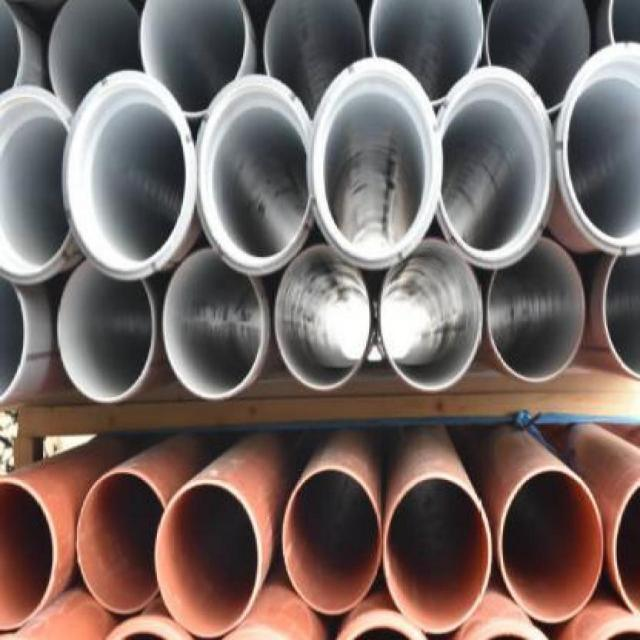pipe: (62, 70, 195, 281), (311, 61, 438, 261), (436, 66, 555, 268), (196, 76, 312, 276), (382, 475, 490, 635), (155, 481, 260, 639), (561, 39, 640, 248), (500, 468, 605, 624), (379, 239, 484, 393), (0, 83, 76, 285), (162, 250, 262, 400), (282, 467, 382, 615), (56, 259, 155, 404), (274, 246, 371, 392), (488, 239, 586, 383), (265, 0, 372, 120), (76, 469, 164, 614), (139, 1, 249, 117), (370, 0, 487, 106), (485, 0, 593, 111), (49, 0, 143, 111), (1, 478, 56, 631), (603, 251, 640, 383), (609, 480, 640, 622), (0, 271, 32, 403), (0, 0, 28, 103)
